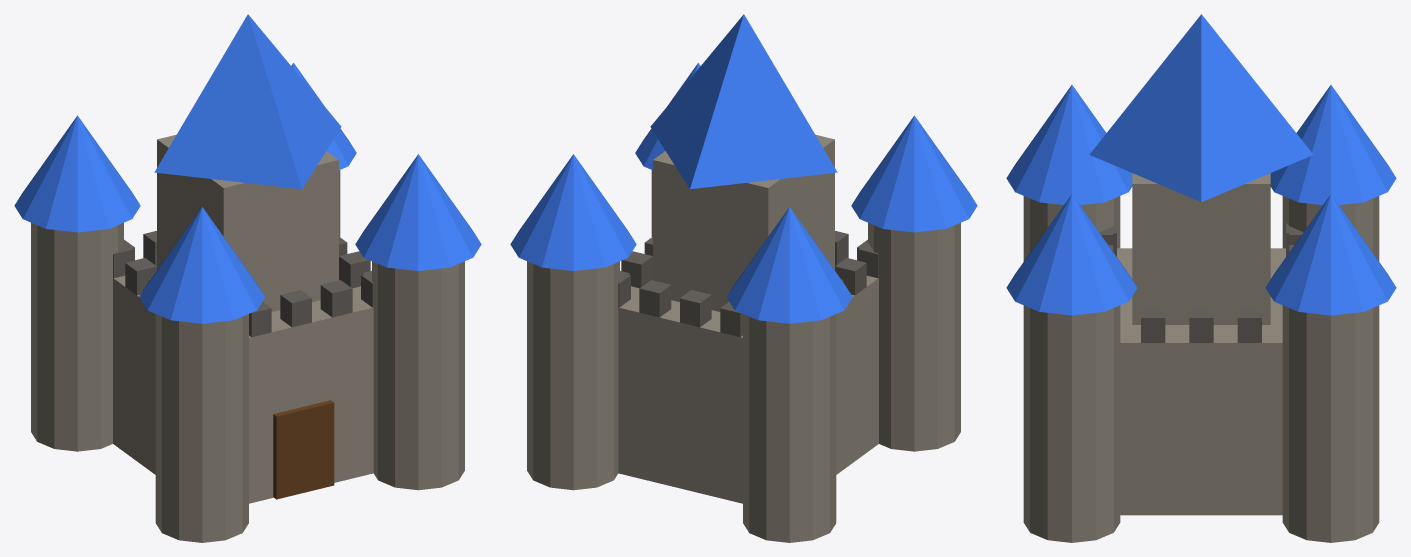
3 renders of one model, left to right at view 1: azimuth 30°, elevation 25°; view 2: azimuth 150°, elevation 25°; view 3: azimuth 270°, elevation 25°, orthographic. The views are drawn at different scales.
Parts seen in each view (by area): view 1: Donjon, Tour_4, Tour_3, Tour_1, Donjon_toit, Donjon_haut, Tour_3_toit, Tour_1_toit, Tour_4_toit, Creneaux, Porte, Tour_2_toit; view 2: Donjon, Tour_1, Tour_2, Tour_4, Donjon_toit, Donjon_haut, Tour_2_toit, Tour_1_toit, Tour_4_toit, Creneaux, Tour_3_toit; view 3: Donjon, Tour_2, Tour_3, Donjon_toit, Donjon_haut, Tour_2_toit, Tour_3_toit, Tour_1_toit, Tour_4_toit, Creneaux, Tour_1, Tour_4.
Boxes of the visible parts, x1,y1,x2,y2 form: Donjon: (113,258,373,503); Tour_4: (155,314,248,542); Tour_3: (372,261,464,490); Tour_1: (31,223,123,451); Donjon_toit: (154,14,341,189); Donjon_haut: (157,134,338,311); Tour_3_toit: (355,154,481,270); Tour_1_toit: (14,115,140,232); Tour_4_toit: (139,207,265,323); Creneaux: (113,231,373,337); Porte: (273,400,334,499); Tour_2_toit: (291,63,356,170); Donjon: (618,258,878,503); Tour_1: (743,314,836,542); Tour_2: (527,261,619,490); Tour_4: (868,223,960,451); Donjon_toit: (650,14,837,189); Donjon_haut: (653,134,834,311); Tour_2_toit: (510,154,636,270); Tour_1_toit: (726,207,852,323); Tour_4_toit: (851,115,977,232); Creneaux: (618,231,878,337); Tour_3_toit: (635,63,700,170); Donjon: (1117,248,1285,515); Tour_2: (1282,305,1379,542); Tour_3: (1023,305,1120,542); Donjon_toit: (1089,14,1313,201); Donjon_haut: (1132,173,1270,324); Tour_2_toit: (1265,194,1396,315); Tour_3_toit: (1006,194,1137,315); Tour_1_toit: (1270,85,1396,204); Tour_4_toit: (1006,85,1132,204); Creneaux: (1099,223,1303,342); Tour_1: (1282,196,1379,261); Tour_4: (1023,196,1120,261).
Size of the model in its own units: 2.26 by 2.9 by 2.26.
